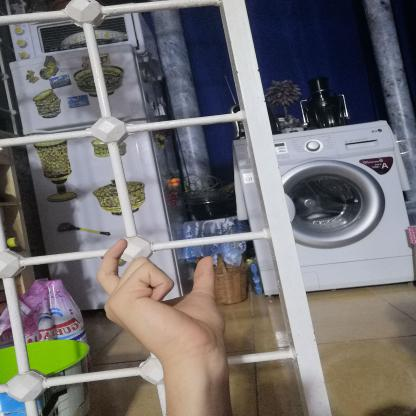NOON: (80, 231, 238, 368)
